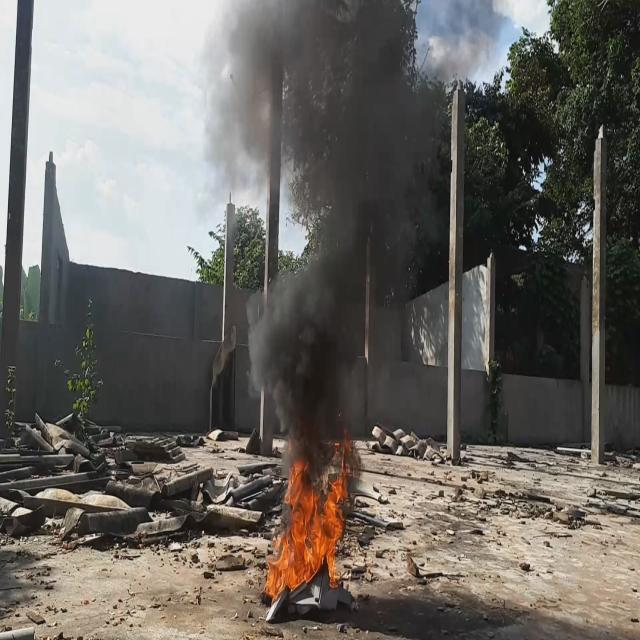Fire: (264, 425, 360, 610)
Smoke: (208, 0, 495, 444)
